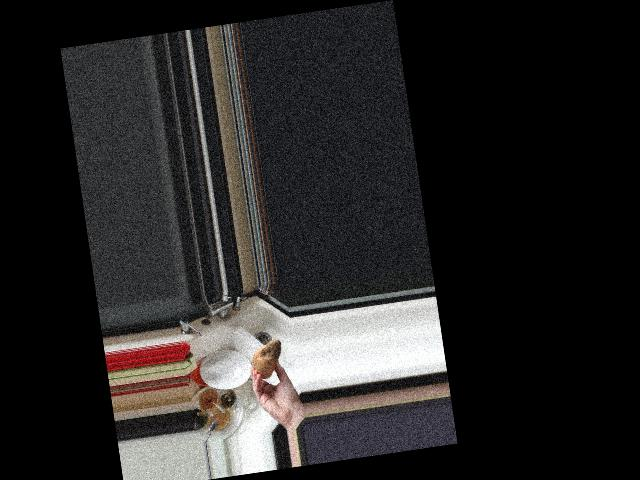sweet_potato: (248, 338, 288, 380)
